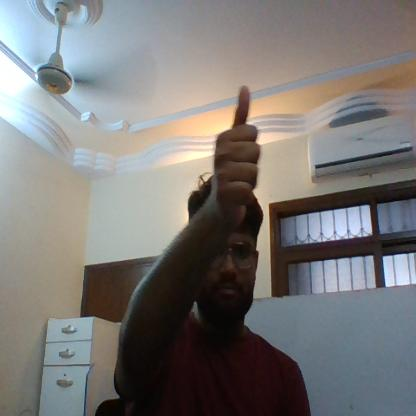thumbs-up: (202, 85, 273, 190)
